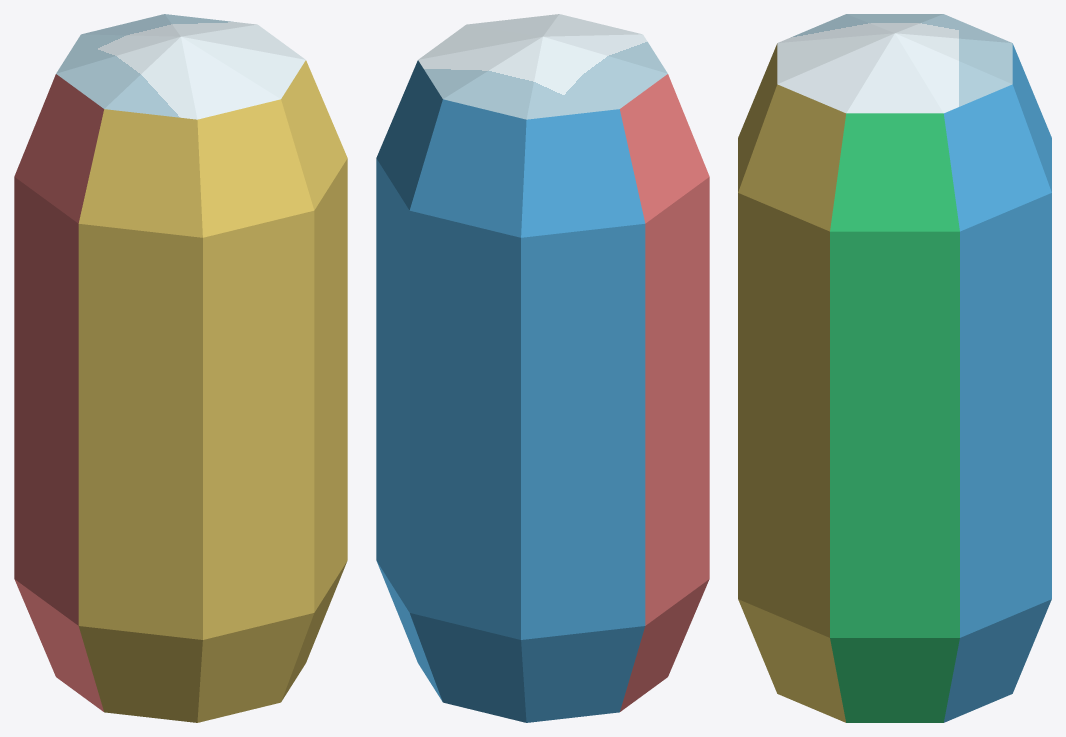
File: plutonium_s.obj
3 renders of one model, left to right at view 1: azimuth 30°, elevation 25°; view 2: azimuth 150°, elevation 25°; view 3: azimuth 270°, elevation 25°, orthographic.
Visible parts, largest first — view 1: body; view 2: body; view 3: body.
Part boxes in pixels (left/top/right/bottom): body: left=14, top=14, right=347, bottom=722; body: left=376, top=14, right=709, bottom=722; body: left=738, top=14, right=1051, bottom=722.
Size of the model in its own units: 0.0875 by 0.2062 by 0.0875.
1 material, 1 textured.
